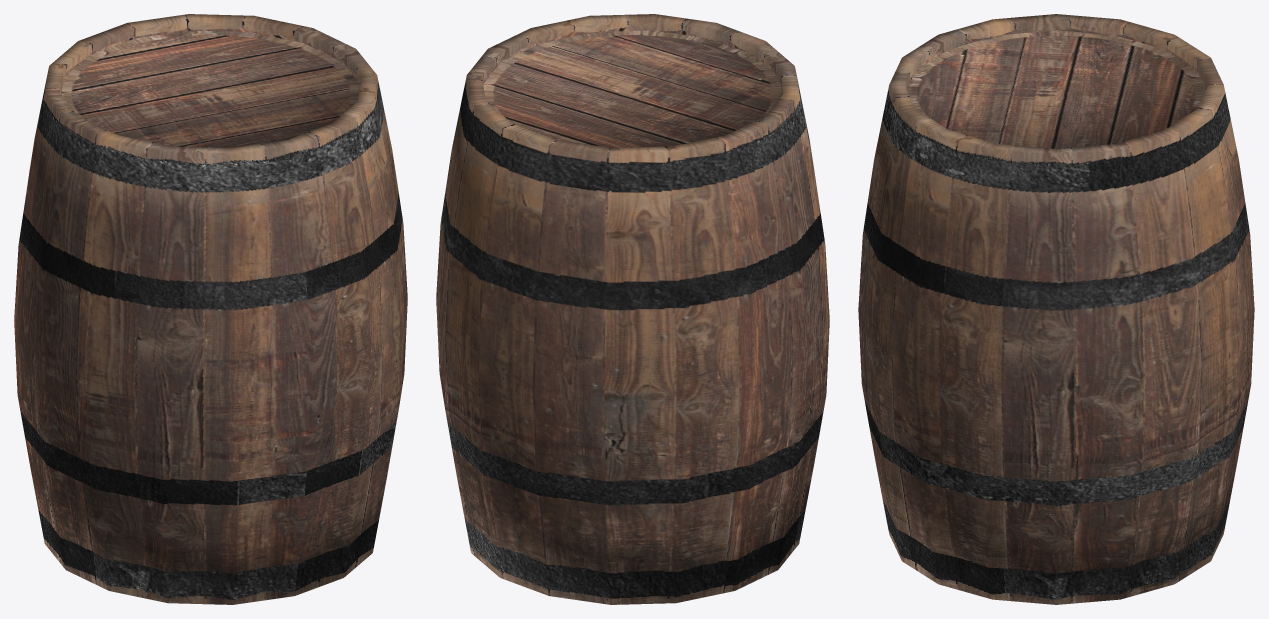
File: barrel.fbx
The picture shows the model from 3 angles, left to right: view 1: azimuth 30°, elevation 25°; view 2: azimuth 150°, elevation 25°; view 3: azimuth 270°, elevation 25°; orthographic projection.
Visible parts, largest first — view 1: barrel_low; view 2: barrel_low; view 3: barrel_low.
Part boxes in pixels (x1,y1,x2,y2): barrel_low: (14,14,407,604); barrel_low: (436,14,829,604); barrel_low: (858,14,1254,604).
Bounding box in the file's own units: 131 × 164 × 131.
